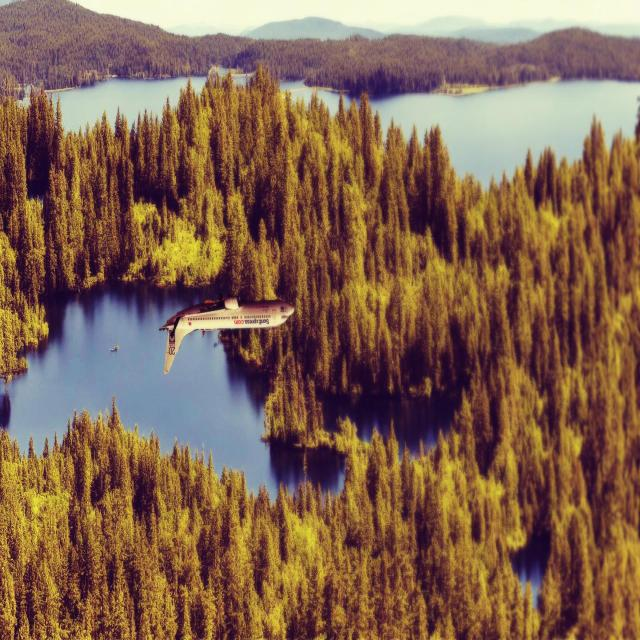airplane: (159, 294, 295, 374)
